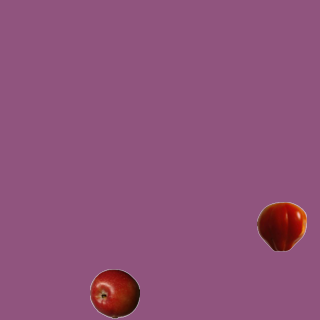Apple Braeburn: (89, 268, 139, 318)
Tomato 1: (256, 201, 306, 251)
